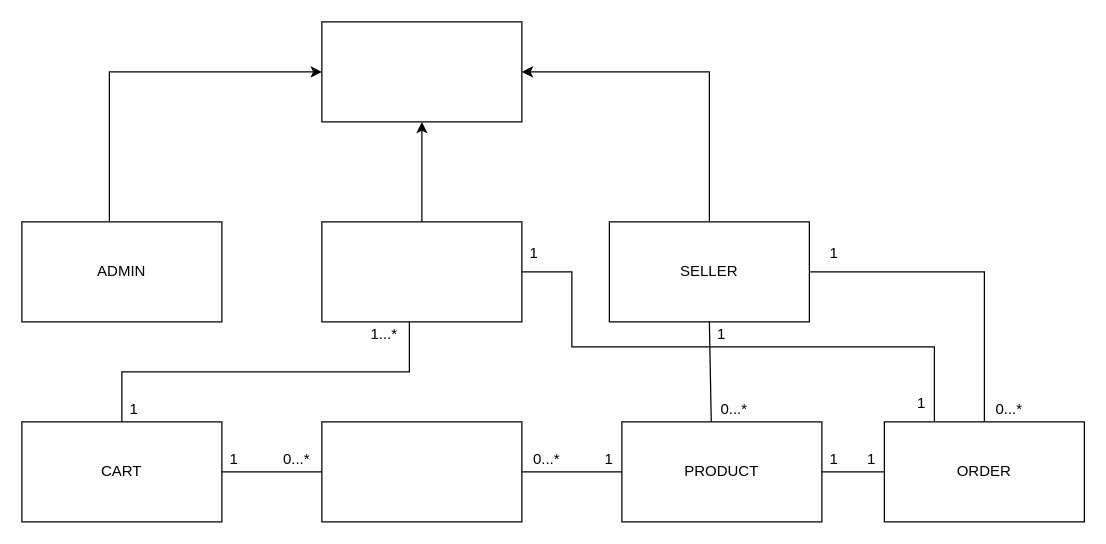
Image size: 1106x544. Some labels were removed from this diagram. Here are the shapes that lost their labels. From the top down, the box of each, then its label:
(321, 21, 522, 122): USER
(321, 221, 522, 322): CLIENT
(321, 421, 522, 522): CARTPRODUCT
